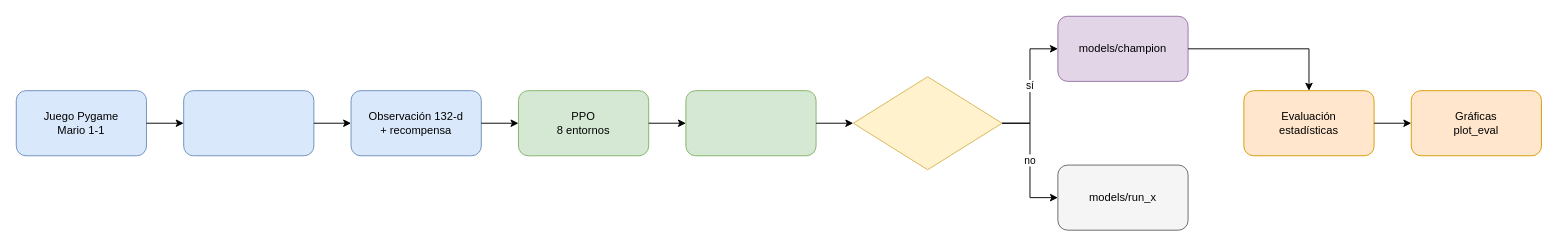
Some shapes in this 1558 by 246 pixel diagram are drawn without their labels. The shapes that lost their labels are listed below. From the top down, each one's centre as x and y in pixels, then its label:
point (248, 123): MarioEnv Gymnasium
point (750, 123): Entrenamiento callbacks + checkpoints
point (927, 123): ¿Mejor que el campeón?
